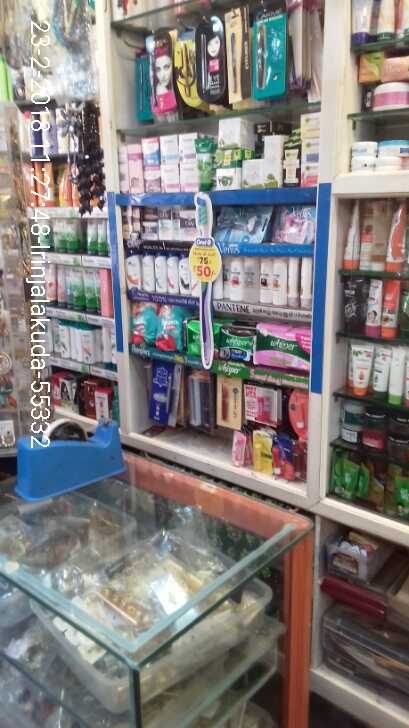venus: (217, 208, 269, 245), (269, 206, 315, 245)
